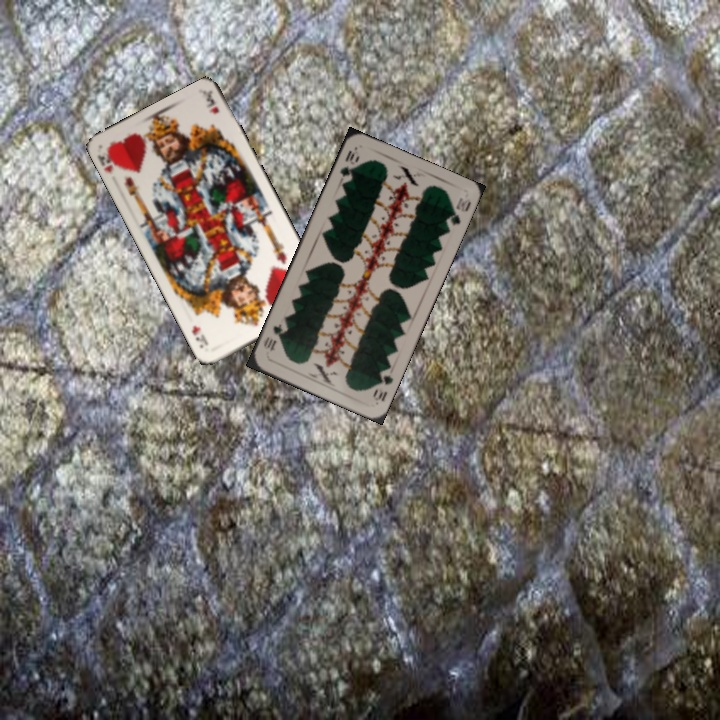G10: (369, 365, 396, 404), (336, 146, 361, 185)
HK: (93, 144, 123, 176)
